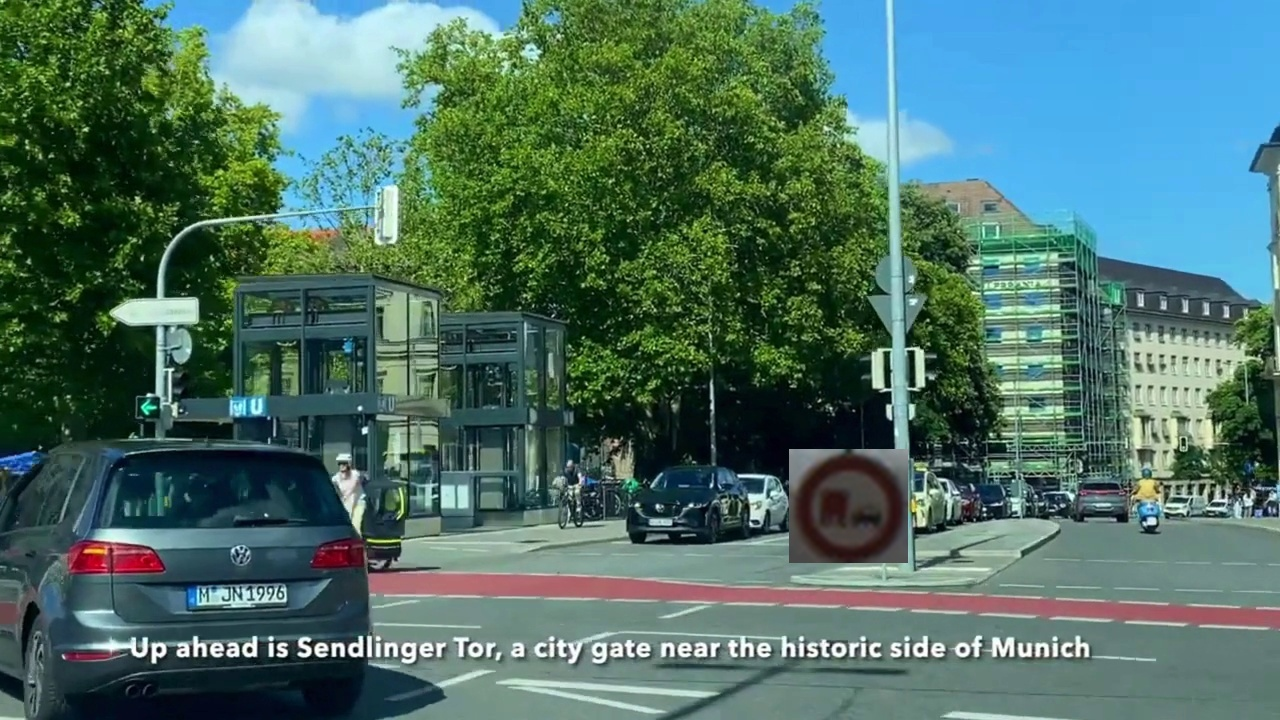No pass >3.5t: (789, 449, 908, 563)
